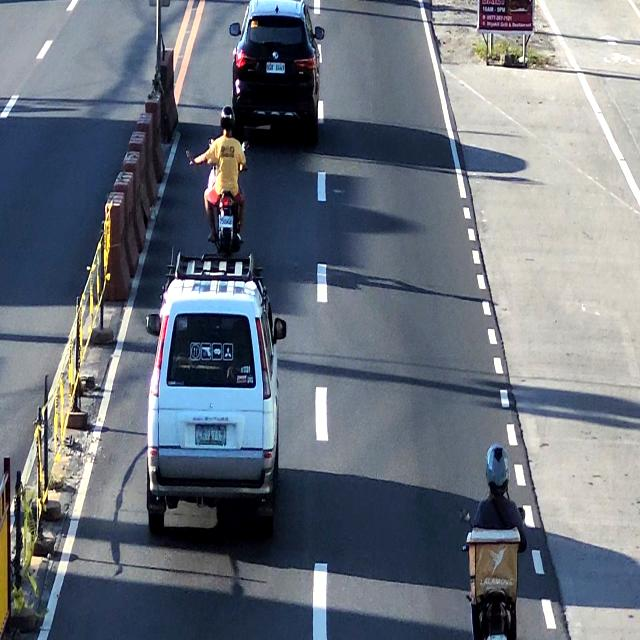Car: (153, 254, 278, 534), (229, 0, 320, 126)
License-Plate: (192, 421, 228, 445), (216, 212, 236, 230), (264, 61, 286, 76)
Motorcycle: (464, 445, 526, 640), (201, 106, 245, 252)
